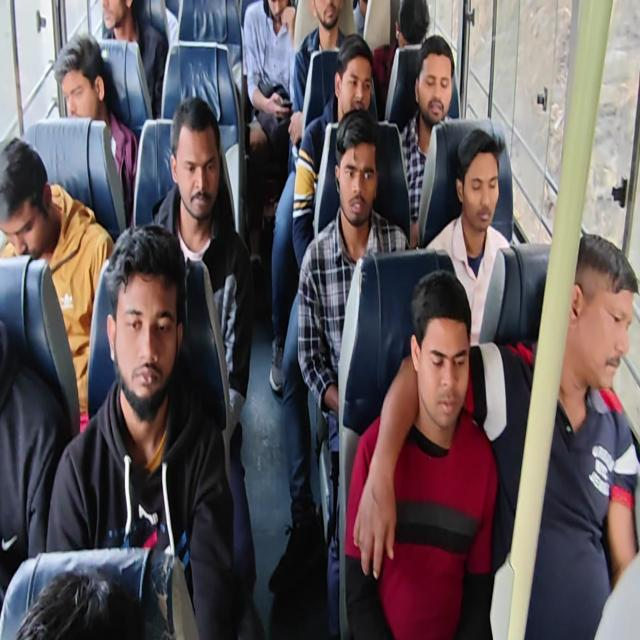person: (561, 227, 640, 397), (104, 243, 178, 411), (23, 573, 160, 640), (0, 135, 66, 257), (413, 282, 462, 422), (172, 114, 228, 223), (53, 38, 109, 130), (460, 143, 503, 234), (336, 137, 374, 225), (333, 49, 373, 120), (417, 55, 454, 118), (395, 0, 432, 56), (95, 0, 138, 32), (314, 0, 341, 34), (266, 0, 293, 28)
